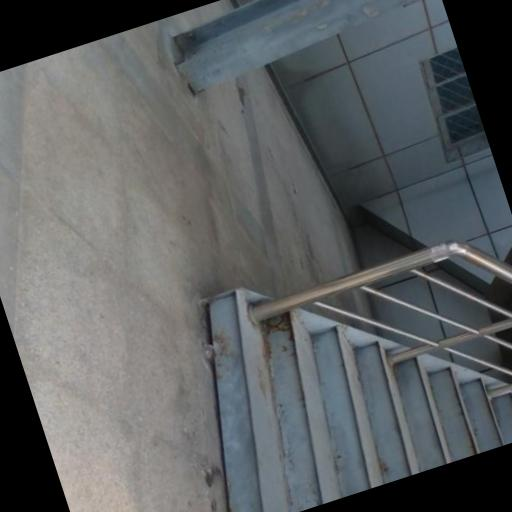stairs: (207, 288, 511, 511)
